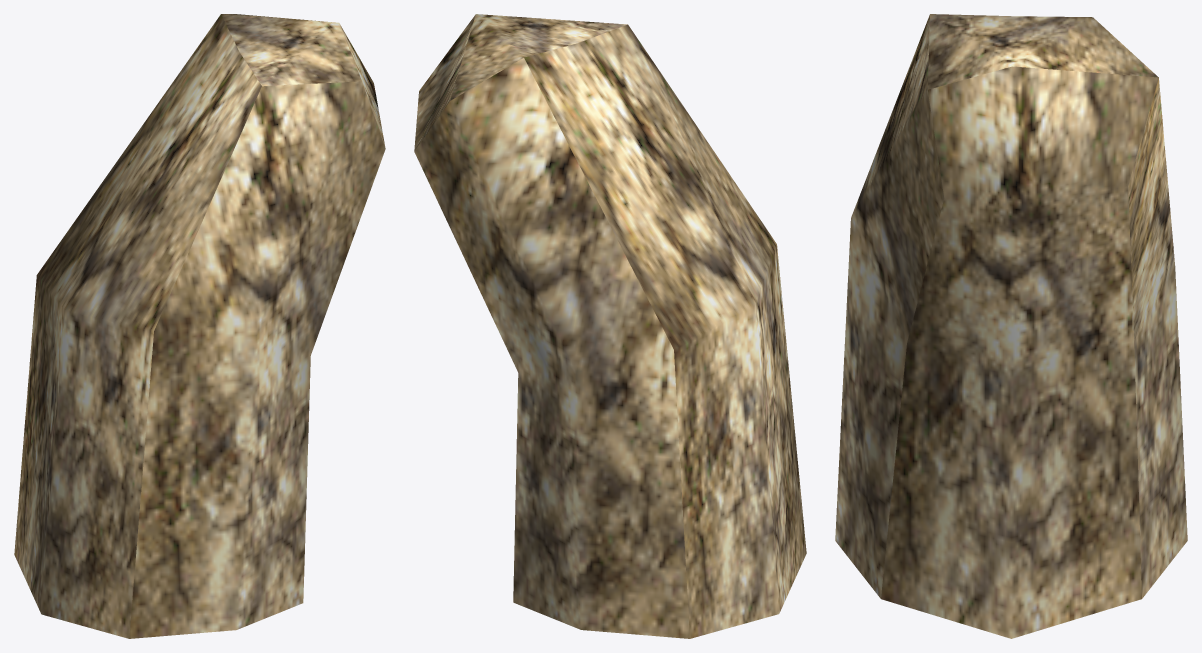
3 views of the same model, side by side, from view 1: azimuth 30°, elevation 25°; view 2: azimuth 150°, elevation 25°; view 3: azimuth 270°, elevation 25° (orthographic). The views are drawn at different scales.
Visible parts, largest first — view 1: SMDImport; view 2: SMDImport; view 3: SMDImport.
Part boxes in pixels (x1,y1,x2,y2): SMDImport: (14, 14, 385, 638); SMDImport: (414, 14, 806, 638); SMDImport: (835, 14, 1187, 638).
Bounding box in the file's own units: 114 × 167 × 89.15.
